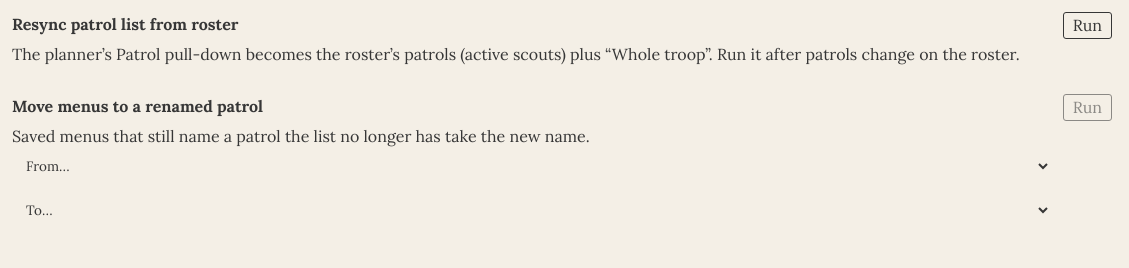
Test case: ToolsAdmin: move menus to a renamed patrol › RunStaysGreyed_UntilBothAreChosen_ThenMovesAndReports
Select "Flaming Arrows (3 menus)" in the dropdown named "From patrol" at (531, 166), box [12,148,1051,184]
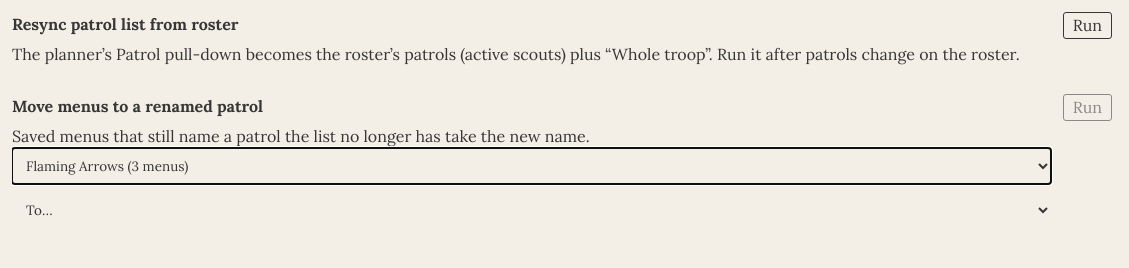
Expected: the button "Run" in the row of "Move menus to a renamed patrol" is disabled, [1063,94,1112,121]
Select "Screaming Eagles" in the dropdown named "To patrol" at (531, 210), box [12,192,1051,228]
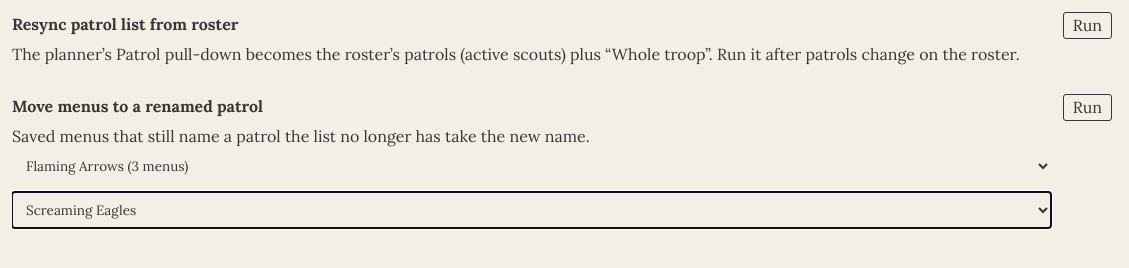
Now the button "Run" in the row of "Move menus to a renamed patrol" is enabled
Click the button "Run" in the row of "Move menus to a renamed patrol" at (1087, 108), box [1063,94,1112,121]
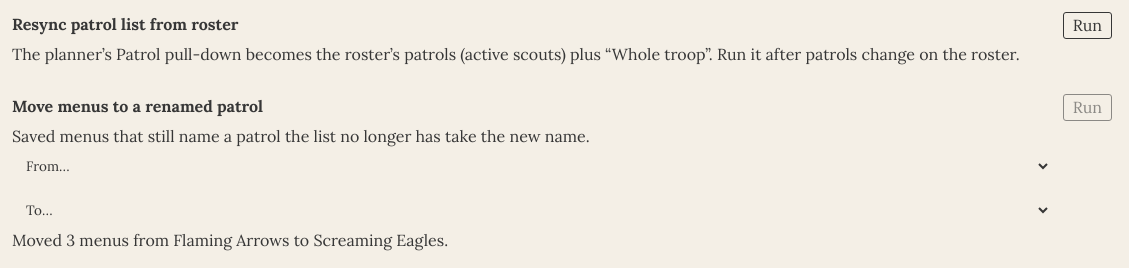
Now the text "Moved 3 menus from Flaming Arrows to Screaming Eagles." is shown, box [12,230,448,250]
